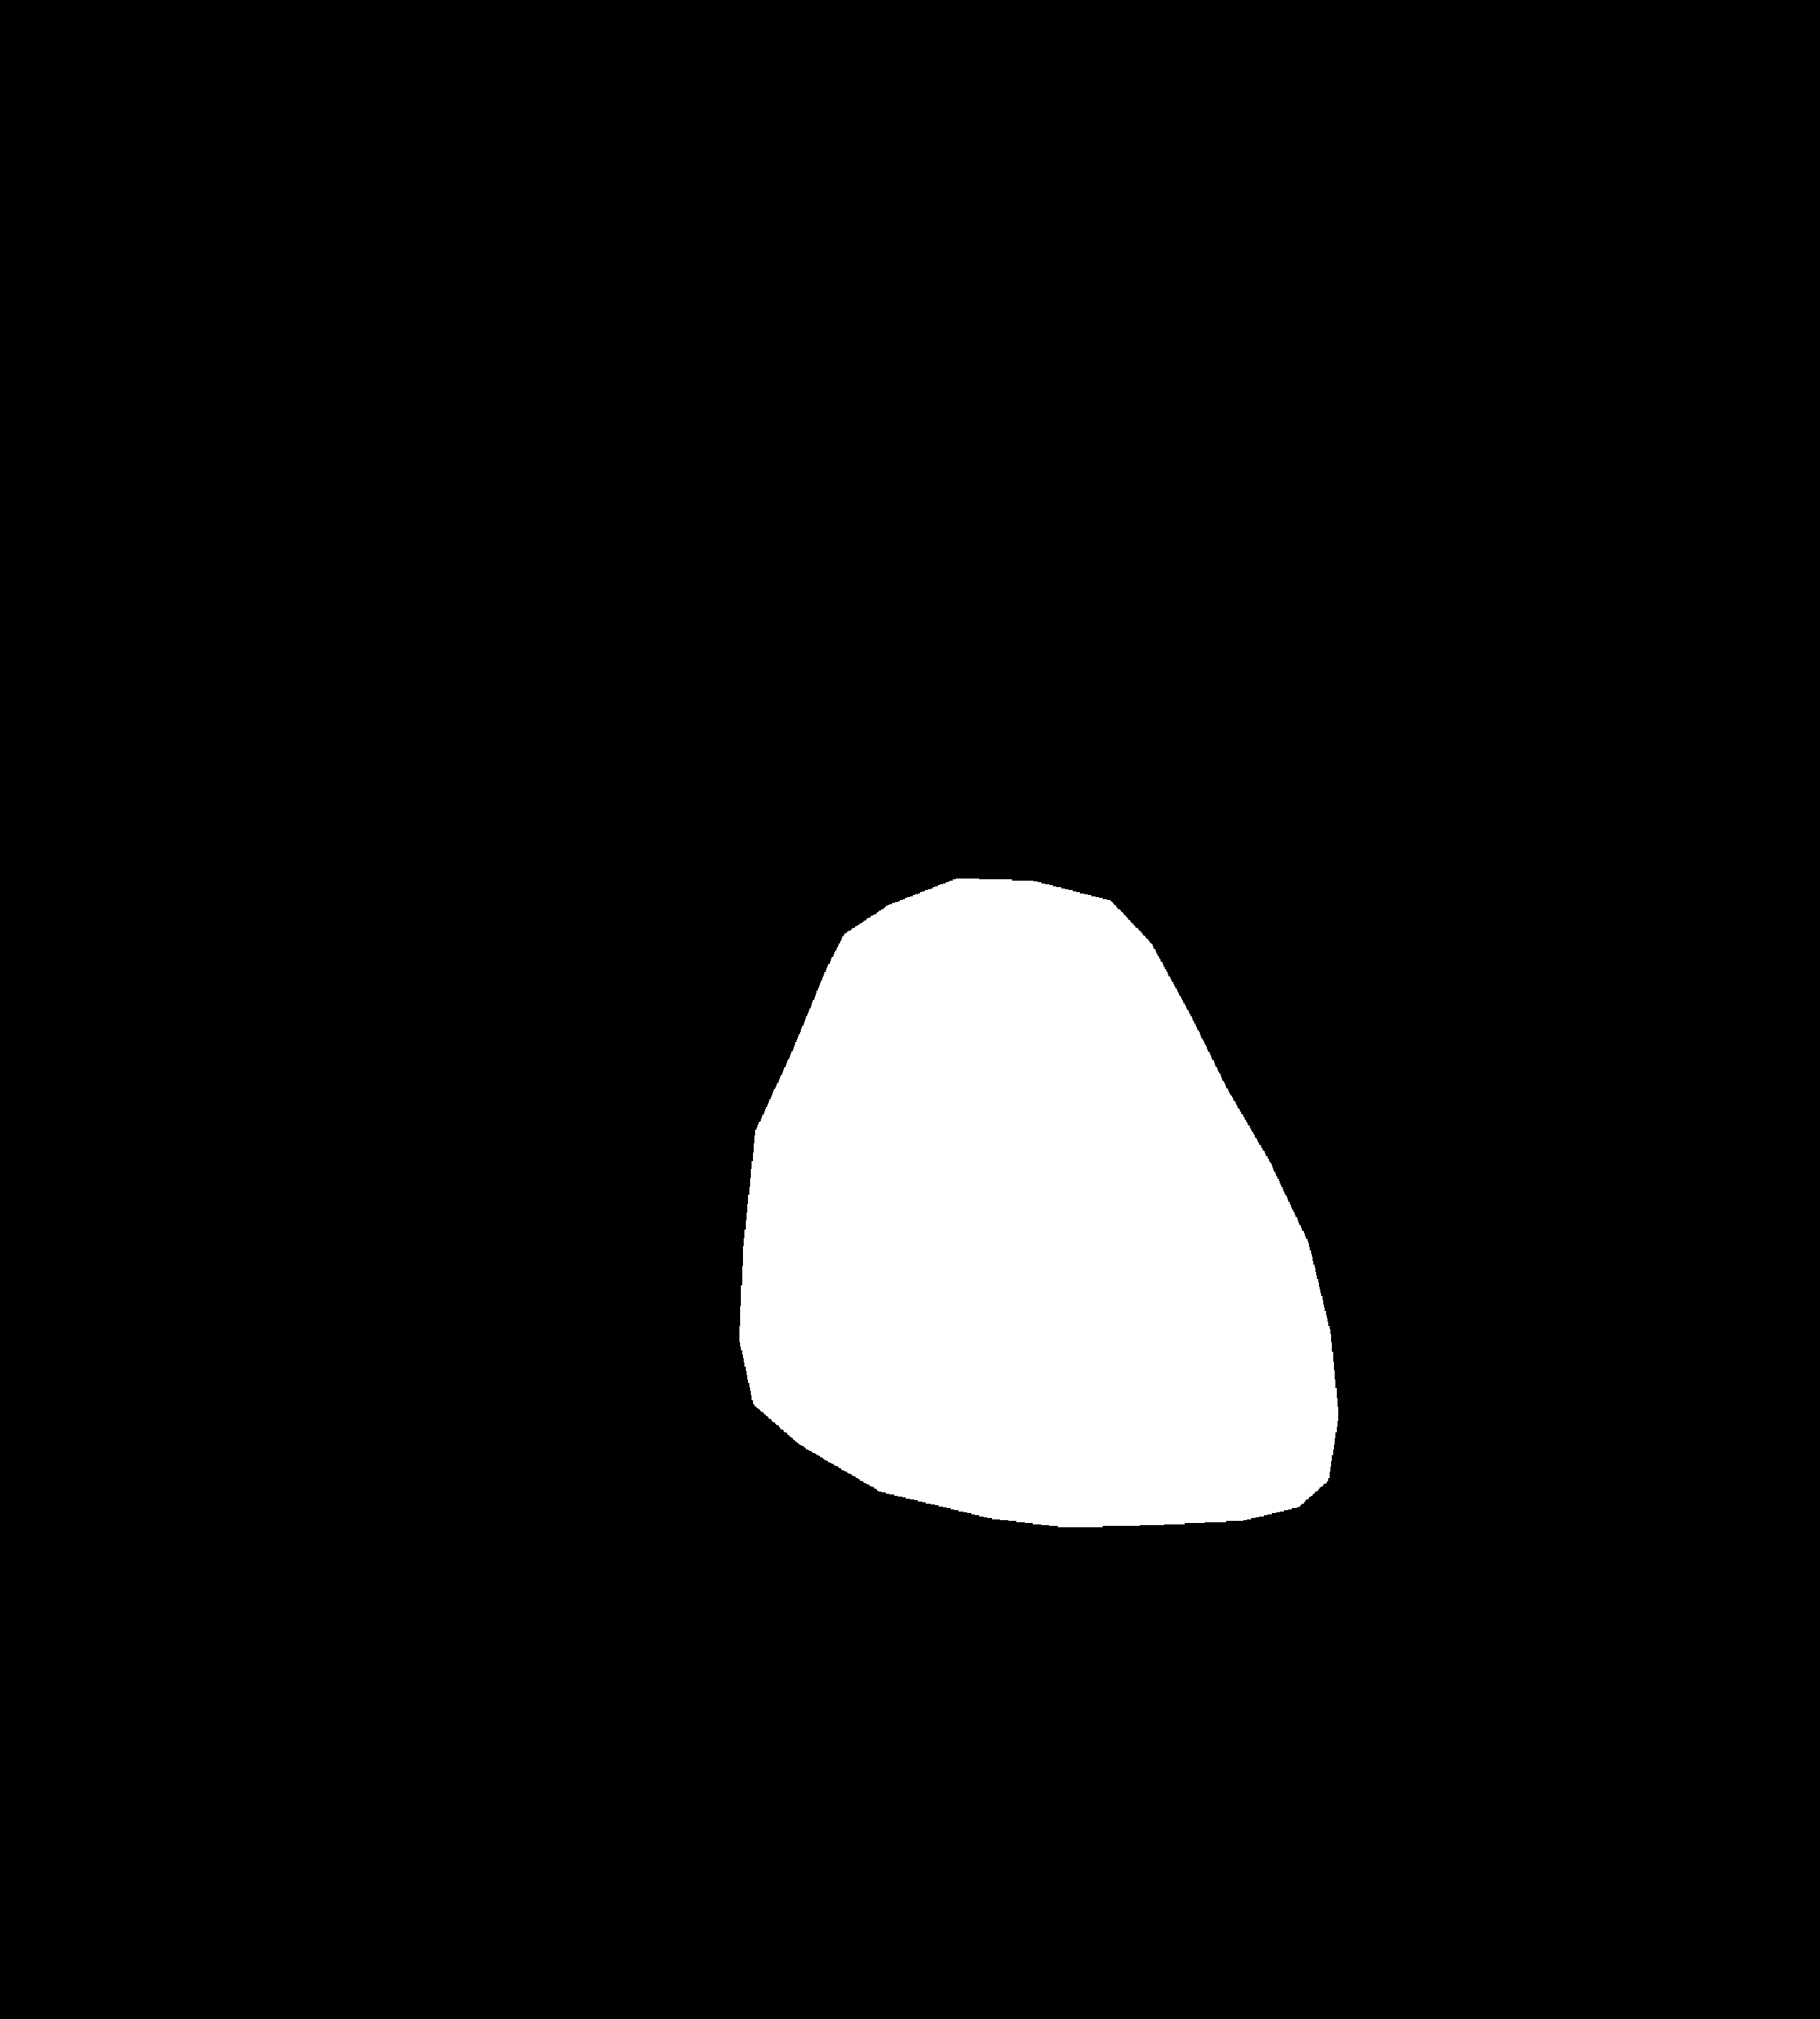heart: (740, 993, 1337, 1599)
left_lung: (256, 281, 829, 1750)
right_lung: (1017, 267, 1567, 1706)
